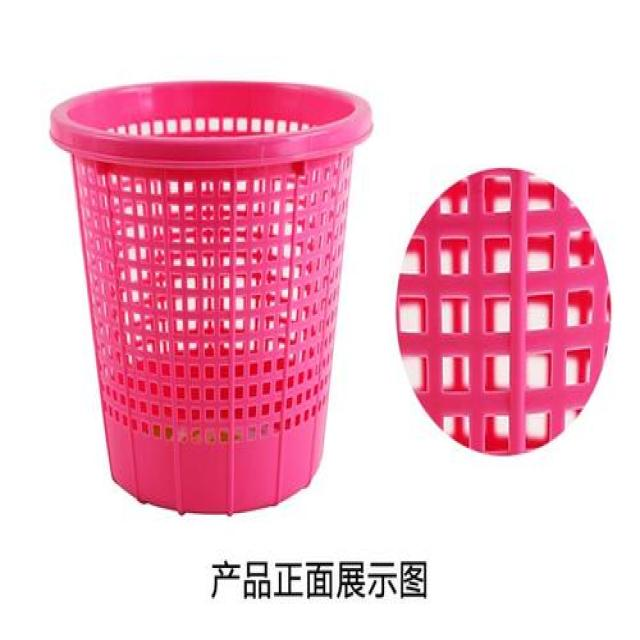dustbin: (46, 73, 378, 521)
